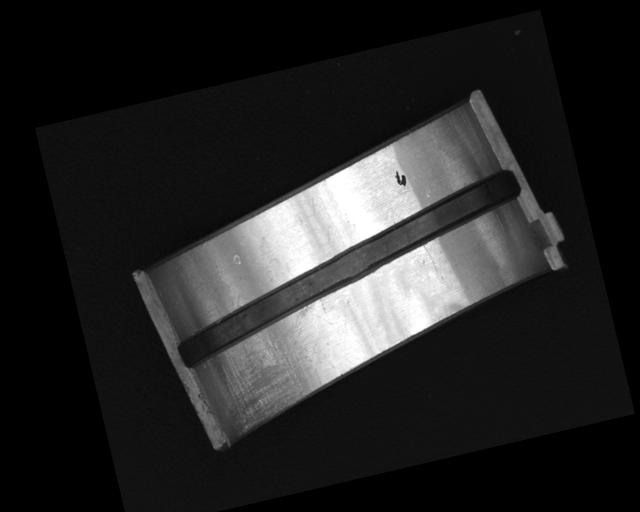blot: (392, 167, 409, 188)
bruise: (232, 253, 243, 266)
gap: (156, 167, 542, 367)
nick: (424, 239, 445, 282)
scratch: (206, 303, 340, 438)
